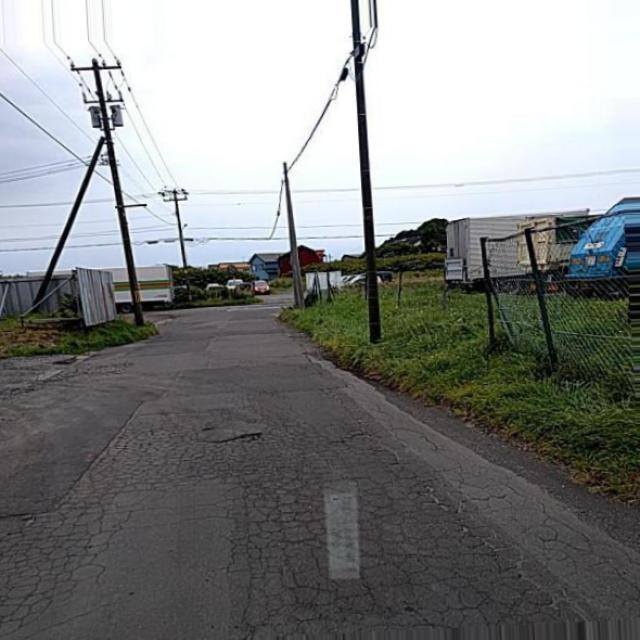Retak Buaya: (0, 424, 581, 640)
